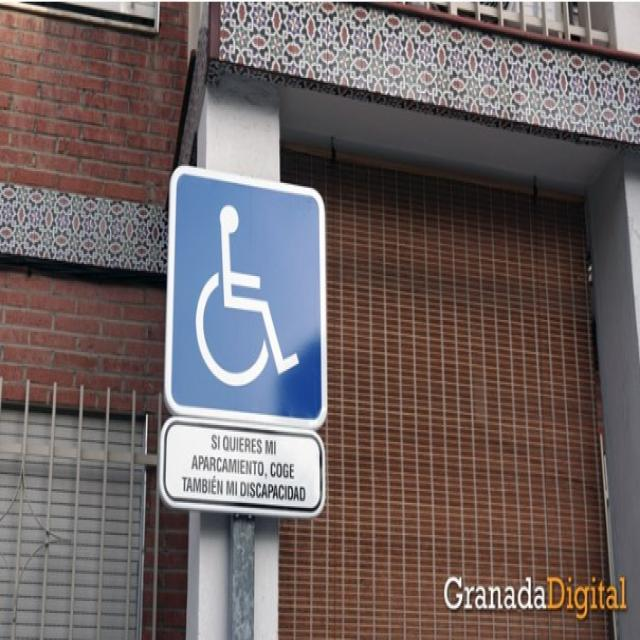symbol_of_access: (162, 164, 330, 434)
